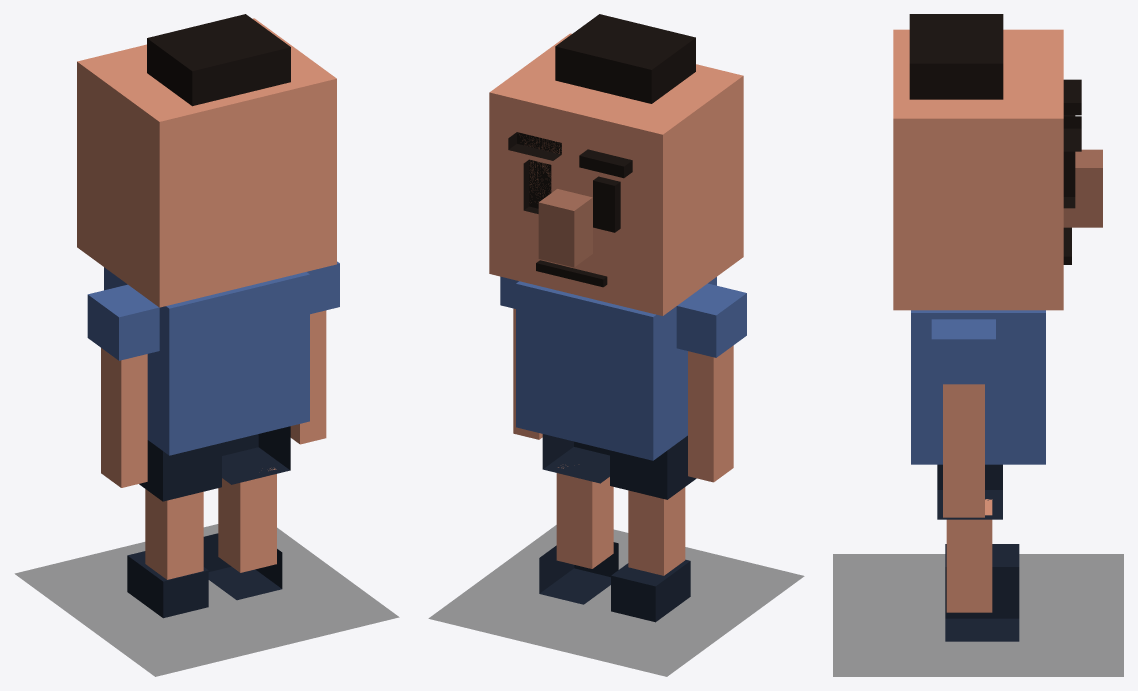
The model's file is bob.glb.
The picture shows the model from 3 angles, left to right: view 1: azimuth 30°, elevation 25°; view 2: azimuth 150°, elevation 25°; view 3: azimuth 270°, elevation 25°; orthographic projection. The views are drawn at different scales.
Visible parts, largest first — view 1: cabeca, corpo, rootPersonagem, pernaL, pernaR, bracoL, bracoR; view 2: cabeca, corpo, rootPersonagem, pernaL, pernaR, bracoL, bracoR; view 3: cabeca, rootPersonagem, corpo, bracoR, pernaR, pernaL.
Boxes of the visible parts, x1=… form: cabeca: x1=77, y1=14, x2=336, y2=307; corpo: x1=104, y1=267, x2=309, y2=455; rootPersonagem: x1=15, y1=524, x2=398, y2=676; pernaL: x1=127, y1=440, x2=221, y2=618; pernaR: x1=203, y1=426, x2=290, y2=600; bracoL: x1=87, y1=284, x2=159, y2=487; bracoR: x1=290, y1=261, x2=339, y2=444; cabeca: x1=489, y1=14, x2=743, y2=315; corpo: x1=516, y1=277, x2=716, y2=460; rootPersonagem: x1=429, y1=525, x2=803, y2=676; pernaL: x1=610, y1=435, x2=696, y2=622; pernaR: x1=539, y1=434, x2=618, y2=604; bracoL: x1=676, y1=283, x2=746, y2=482; bracoR: x1=500, y1=276, x2=542, y2=439; cabeca: x1=893, y1=14, x2=1102, y2=310; rootPersonagem: x1=833, y1=554, x2=1123, y2=676; corpo: x1=911, y1=310, x2=1045, y2=464; bracoR: x1=931, y1=319, x2=995, y2=517; pernaR: x1=937, y1=464, x2=1019, y2=641; pernaL: x1=945, y1=544, x2=1019, y2=580.
Bounding box in the file's own units: 1.28 × 2.81 × 1.28.
Materials: 2 (1 with a texture image).
